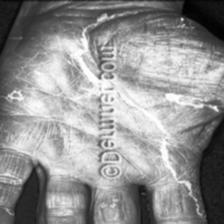Non-Cancerous Skin Condition: (0, 39, 96, 224), (142, 85, 202, 203), (113, 0, 190, 39), (44, 8, 90, 72)
